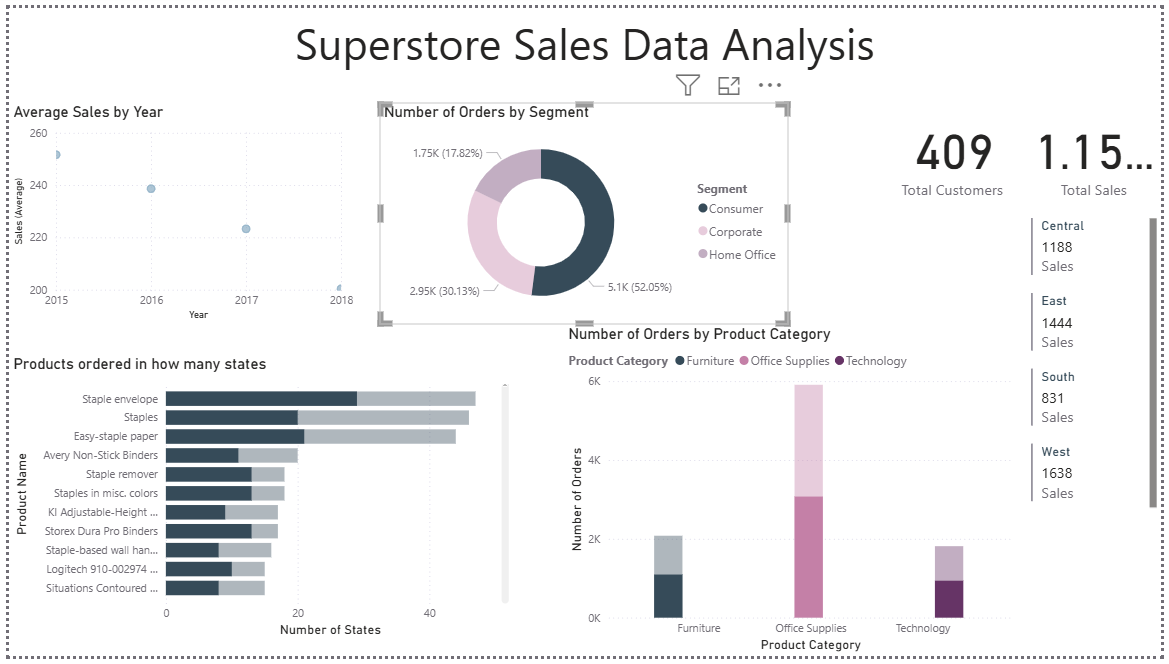

The page's visual inventory and layout, read from the dashboard file:
{"tool":"powerbi","page":{"name":"Page 1","canvas":[1280,720],"ordinal":0},"visuals":[{"type":"scatterChart","title":"Average Sales by Year","fields":{"Y":["Avg(train.Sales)"],"X":["train.Order Year"]},"box":[0,105,386.7,246.7],"z":0},{"type":"card","fields":{"Values":["Count(train.Customer ID)"]},"box":[970,105,160,116.7],"z":1000},{"type":"clusteredBarChart","title":"Products ordered in how many states","fields":{"Category":["train.Product Name"],"Y":["CountNonNull(train.State)"]},"box":[0,385,560,318.3],"z":2000},{"type":"multiRowCard","fields":{"Values":["train.Region","CountNonNull(train.Sales (bins))"]},"box":[1130,228.3,150,343.3],"z":3000},{"type":"clusteredColumnChart","title":"Number of Orders by Product Category ","fields":{"Category":["train.Category","train.Sub-Category"],"Y":["CountNonNull(train.Order ID)"],"Series":["train.Category"]},"box":[616.7,351.7,503.3,368.3],"z":4000},{"type":"card","fields":{"Values":["Sum(train.Sales)"]},"box":[1130,105,150,116.7],"z":5000},{"type":"donutChart","fields":{"Series":["train.Segment"],"Y":["CountNonNull(train.Order ID)"]},"box":[411.7,105,455,246.7],"z":6000},{"type":"textbox","box":[0,0,1280,81.7],"z":7000}]}

Visuals, with their boxes in screenshot pixels (x1, y1, x2, y2), scaled from the page's 1280x720 canvas onto the 1169x664 screenshot:
"Average Sales by Year" scatterChart: <region>0, 97, 353, 324</region>
card - Count(train.Customer ID): <region>886, 97, 1032, 204</region>
"Products ordered in how many states" clusteredBarChart: <region>0, 355, 511, 649</region>
multiRowCard - train.Region x CountNonNull(train.Sales (bins)): <region>1032, 211, 1168, 527</region>
"Number of Orders by Product Category " clusteredColumnChart: <region>563, 324, 1023, 663</region>
card - Sum(train.Sales): <region>1032, 97, 1168, 204</region>
donutChart - train.Segment x CountNonNull(train.Order ID): <region>376, 97, 792, 324</region>
textbox: <region>0, 0, 1168, 75</region>
